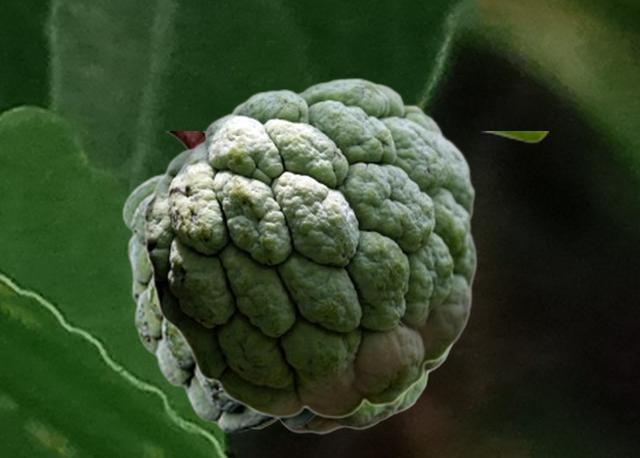atis: (121, 131, 547, 433), (142, 77, 477, 418), (250, 346, 455, 434)
